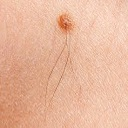Melanoma: (56, 10, 77, 34)
